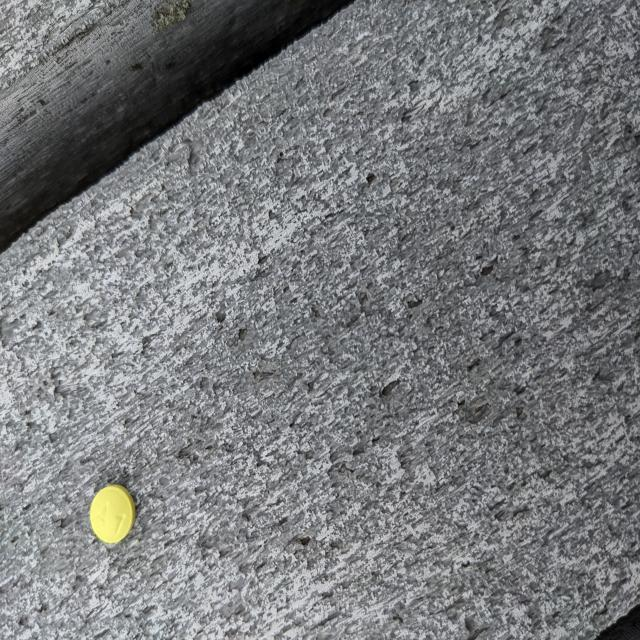non-organic waste: (89, 482, 136, 544)
